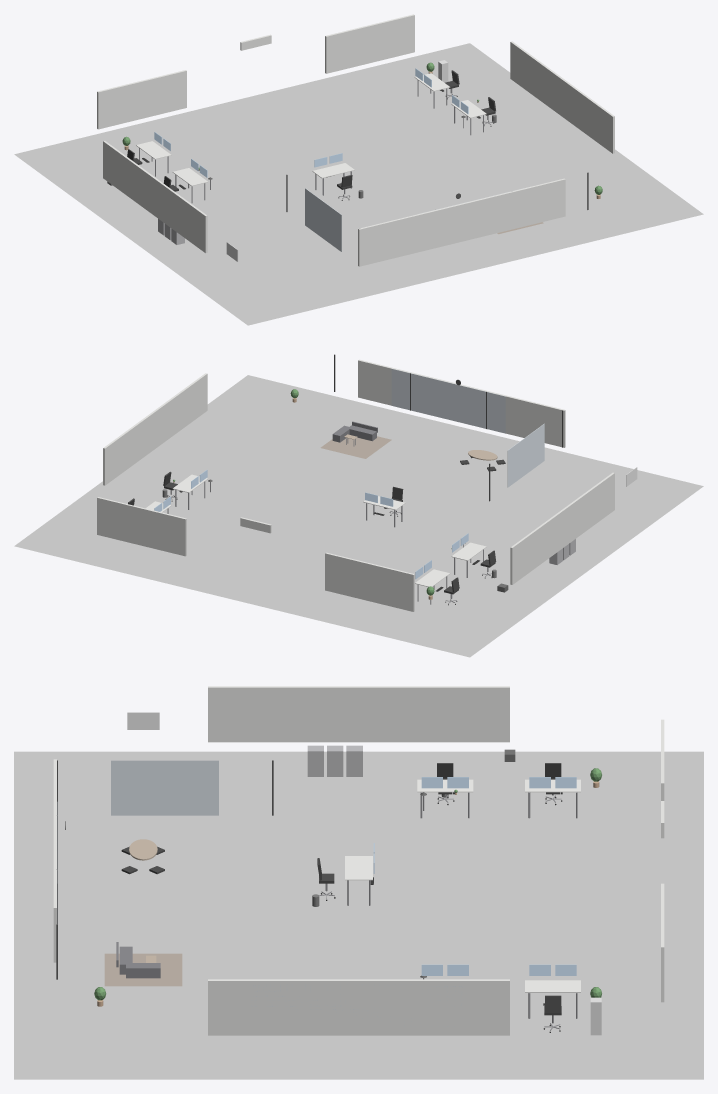
The model's file is office_v15.glb.
The picture shows the model from 3 angles, top to bottom: view 1: azimuth 30°, elevation 25°; view 2: azimuth 150°, elevation 25°; view 3: azimuth 270°, elevation 25°; orthographic projection. The views are drawn at different scales.
Visible parts, largest first — view 1: Plane, Cube, Cube.004, Cube.005, Cube.001, Cube.002, Cube.007; view 2: Plane, Cube.008, Cube.004, Cube.005, Cube, Cube.001, Cube.002, Cube.007, Plane.001; view 3: Plane, Cube.004, Cube.005, Cube.007, Plane.001, Cube, Cube.072, Cube.048.
Boxes of the visible parts, left/top/right/bottom form: Plane: left=14, top=43, right=703, bottom=325; Cube: left=358, top=178, right=565, bottom=266; Cube.004: left=103, top=141, right=207, bottom=253; Cube.005: left=510, top=41, right=614, bottom=153; Cube.001: left=97, top=70, right=186, bottom=129; Cube.002: left=325, top=14, right=414, bottom=73; Cube.007: left=305, top=188, right=341, bottom=251; Plane: left=14, top=375, right=703, bottom=657; Cube.008: left=391, top=369, right=505, bottom=433; Cube.004: left=510, top=472, right=614, bottom=584; Cube.005: left=103, top=373, right=207, bottom=485; Cube: left=358, top=359, right=565, bottom=447; Cube.001: left=325, top=552, right=414, bottom=611; Cube.002: left=97, top=497, right=186, bottom=556; Cube.007: left=507, top=423, right=544, bottom=487; Plane.001: left=320, top=436, right=391, bottom=458; Plane: left=14, top=751, right=703, bottom=1079; Cube.004: left=208, top=686, right=509, bottom=742; Cube.005: left=208, top=979, right=509, bottom=1035; Cube.007: left=111, top=760, right=218, bottom=815; Plane.001: left=104, top=953, right=182, bottom=986; Cube: left=53, top=759, right=56, bottom=962; Cube.072: left=525, top=980, right=580, bottom=992; Cube.048: left=345, top=856, right=372, bottom=880.
Bounding box in the file's own units: 18 × 2.65 × 16.
